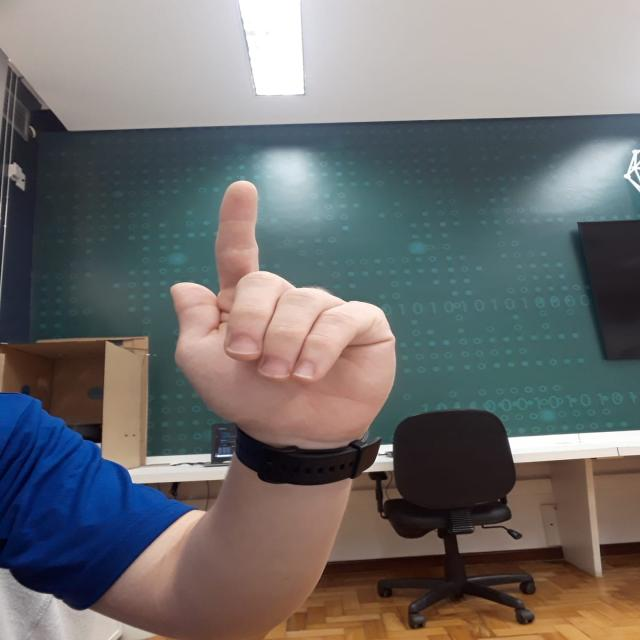G: (163, 168, 400, 446)
